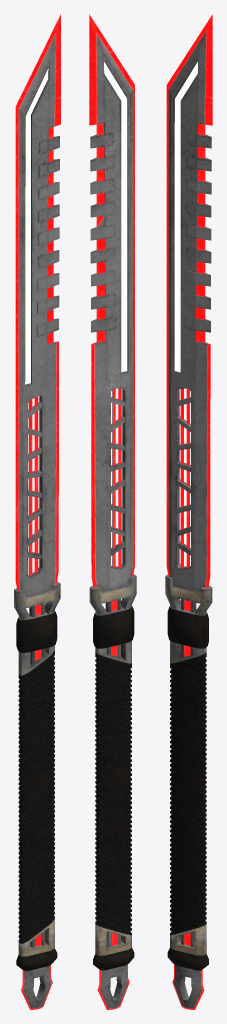
File: metal_frame_scifi_katana_1st_variant.glb
The picture shows the model from 3 angles, left to right: view 1: azimuth 30°, elevation 25°; view 2: azimuth 210°, elevation 25°; view 3: azimuth 330°, elevation 25°; orthographic projection.
Parts seen in each view (by area): view 1: Handle; view 2: Handle; view 3: Handle.
Boxes of the visible parts, box(x1,y1,x2,y2) form: Handle: box(14, 14, 60, 1009); Handle: box(89, 14, 136, 1009); Handle: box(165, 14, 212, 1009).
Bounding box in the file's own units: 7.08 × 147 × 2.24.
Materials: 1 (1 with a texture image).
